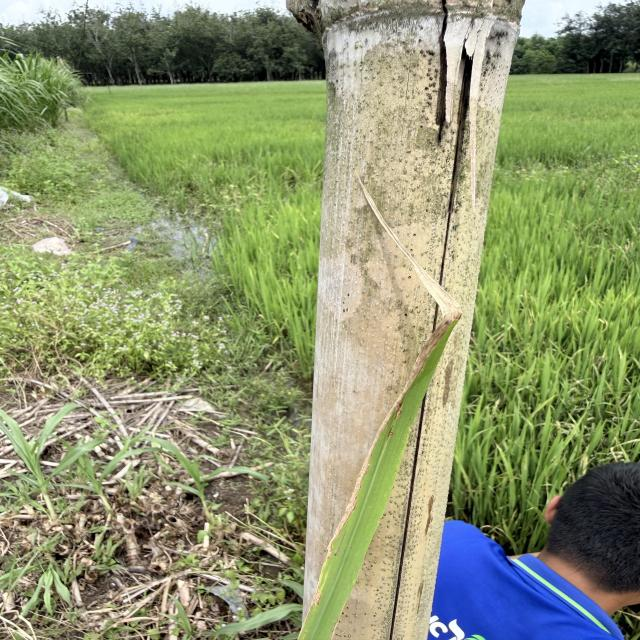Chay bia la: (312, 173, 468, 604)
